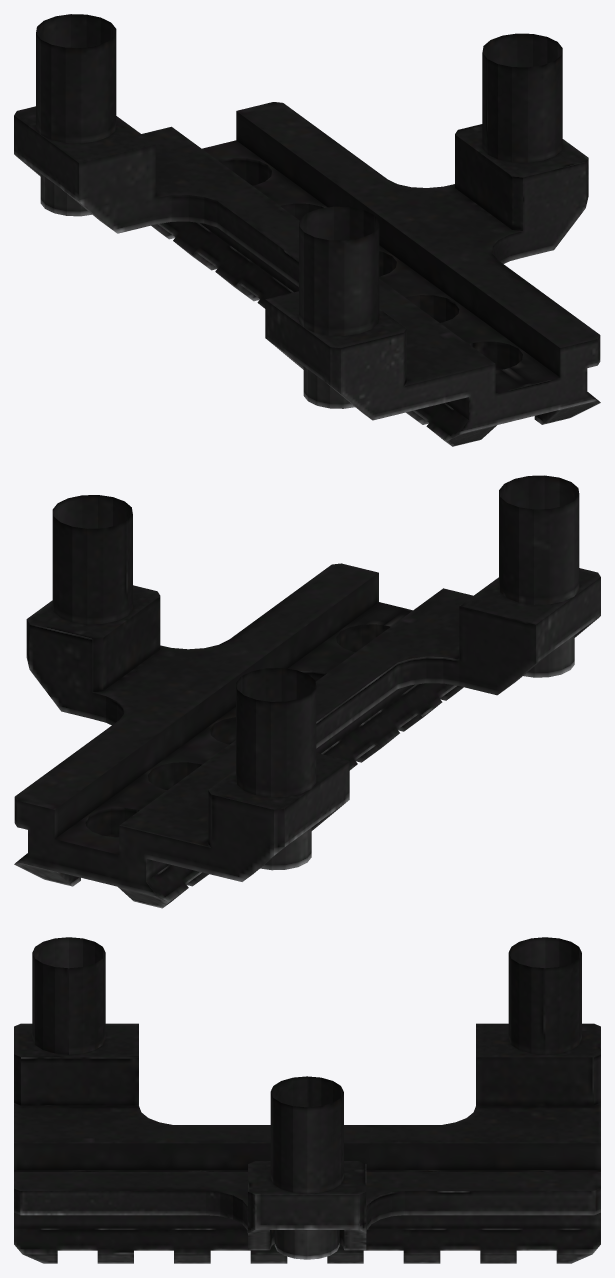
The picture shows the model from 3 angles, top to bottom: view 1: azimuth 30°, elevation 25°; view 2: azimuth 150°, elevation 25°; view 3: azimuth 270°, elevation 25°; orthographic projection. The views are drawn at different scales.
Parts seen in each view (by area): view 1: TW_6492c6dd60fdb10a020621a2_PZ_Import; view 2: TW_6492c6dd60fdb10a020621a2_PZ_Import; view 3: TW_6492c6dd60fdb10a020621a2_PZ_Import.
Part boxes in pixels (bbox=[...]): TW_6492c6dd60fdb10a020621a2_PZ_Import: bbox=[14, 14, 600, 446]; TW_6492c6dd60fdb10a020621a2_PZ_Import: bbox=[14, 475, 600, 908]; TW_6492c6dd60fdb10a020621a2_PZ_Import: bbox=[14, 937, 600, 1263].
Bounding box in the file's own units: 0.0306 × 0.0444 × 0.0179.
Materials: 1 (1 with a texture image).
